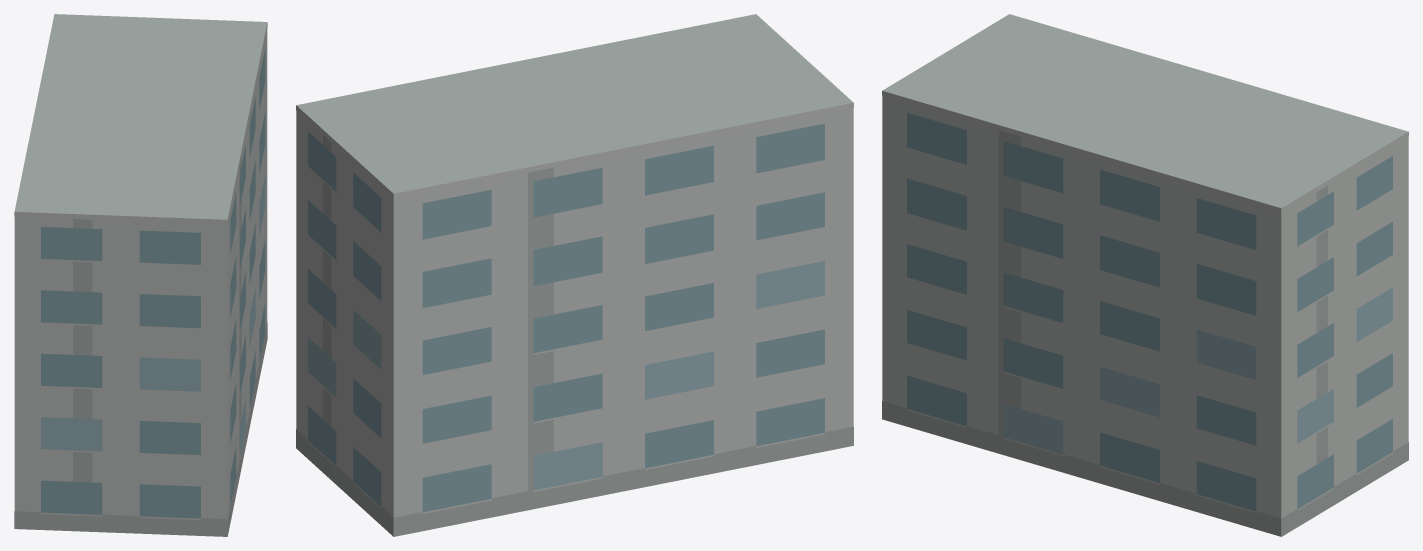
The model's file is survey-upis-32798477.glb.
3 renders of one model, left to right at view 1: azimuth 30°, elevation 25°; view 2: azimuth 150°, elevation 25°; view 3: azimuth 270°, elevation 25°, orthographic. The views are drawn at different scales.
Parts seen in each view (by area): view 1: survey-upis-32798477.tmp; view 2: survey-upis-32798477.tmp; view 3: survey-upis-32798477.tmp.
Part boxes in pixels (x1,y1,x2,y2): survey-upis-32798477.tmp: [14, 14, 267, 536]; survey-upis-32798477.tmp: [296, 14, 853, 536]; survey-upis-32798477.tmp: [882, 14, 1408, 536].
Bounding box in the file's own units: 20.04 × 15.8 × 22.96.
